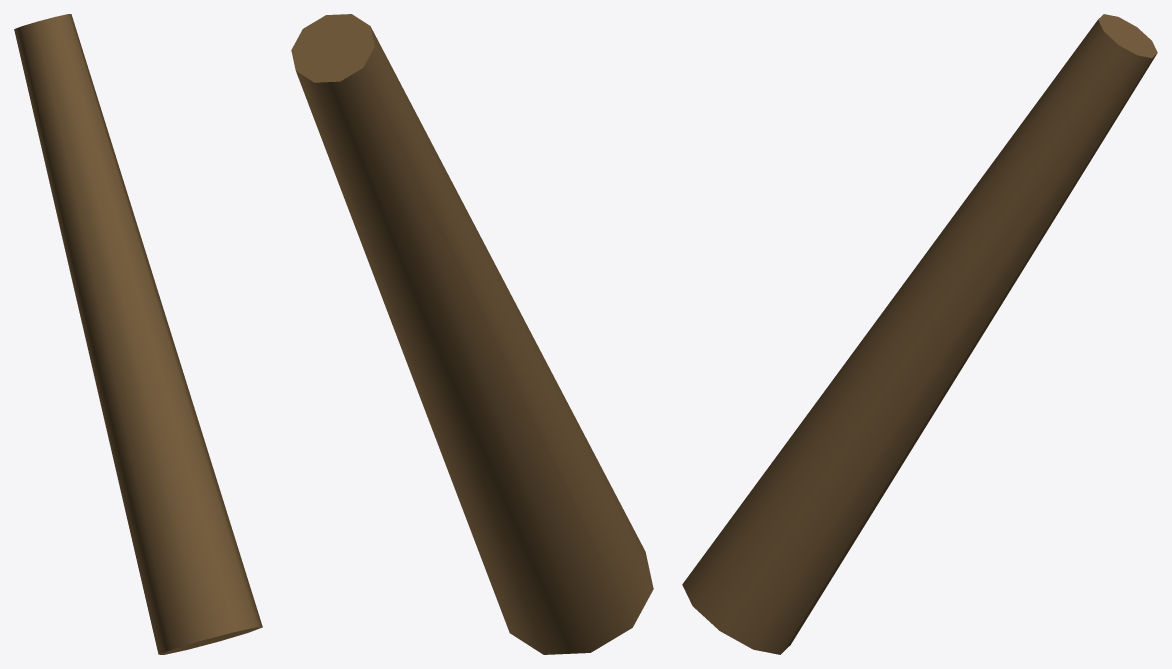
Rendered from branch-south.glb.
3 renders of one model, left to right at view 1: azimuth 30°, elevation 25°; view 2: azimuth 150°, elevation 25°; view 3: azimuth 270°, elevation 25°, orthographic. The views are drawn at different scales.
Visible parts, largest first — view 1: Branch south; view 2: Branch south; view 3: Branch south.
Boxes of the visible parts, x1,y1,x2,y2 form: Branch south: (14,14,262,654); Branch south: (291,14,653,654); Branch south: (682,14,1157,654).
Bounding box in the file's own units: 6.14 × 35 × 24.12.
